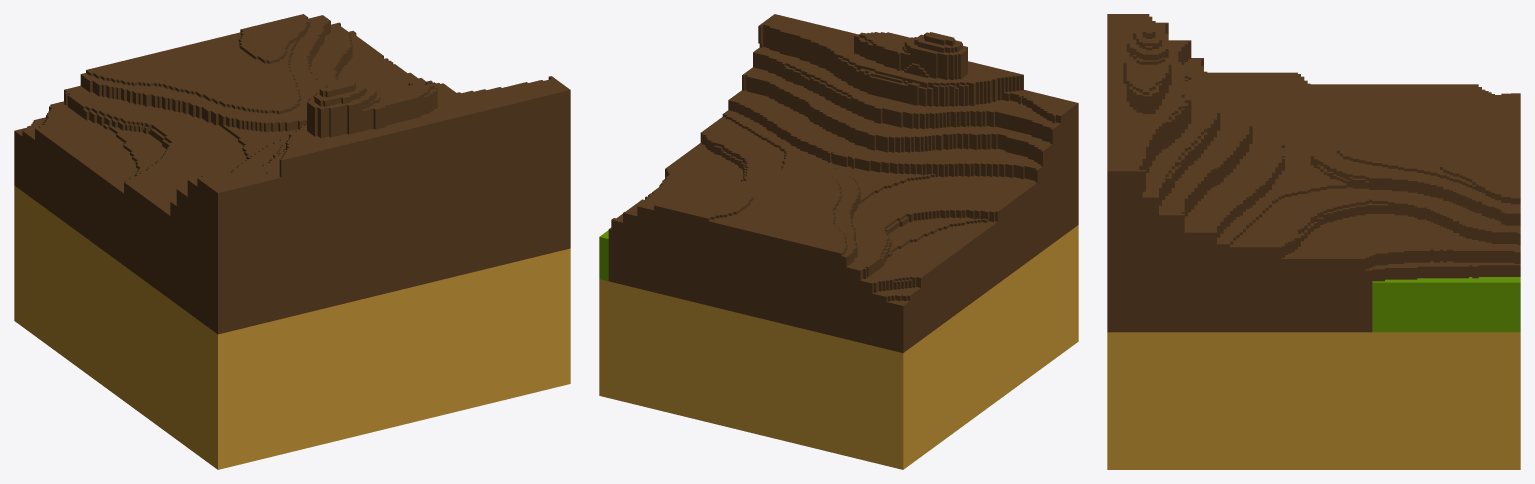
The picture shows the model from 3 angles, left to right: view 1: azimuth 30°, elevation 25°; view 2: azimuth 150°, elevation 25°; view 3: azimuth 270°, elevation 25°; orthographic projection. The views are drawn at different scales.
Visible parts, largest first — view 1: 6N; view 2: 6N; view 3: 6N.
Boxes of the visible parts, x1,y1,x2,y2 form: 6N: (14,14,570,469); 6N: (599,14,1078,469); 6N: (1107,14,1520,469).
Size of the model in its own units: 12.8 by 11.6 by 12.8.
1 material, 1 textured.
